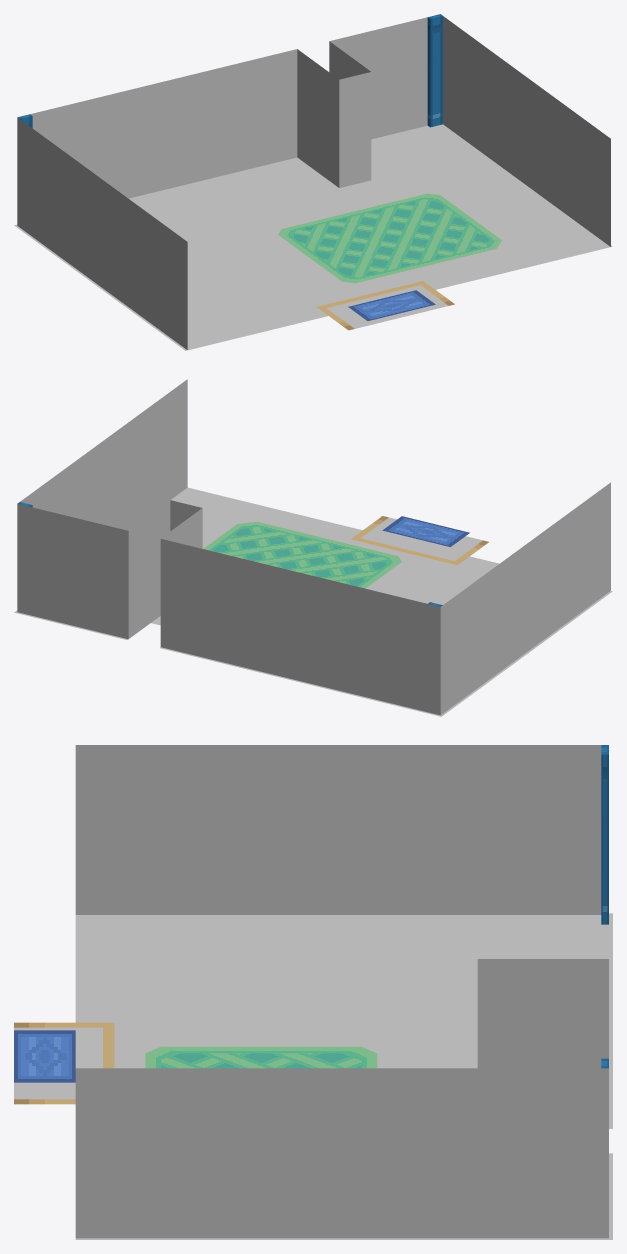
File: House1-downstairs.fbx
The picture shows the model from 3 angles, top to bottom: view 1: azimuth 30°, elevation 25°; view 2: azimuth 150°, elevation 25°; view 3: azimuth 270°, elevation 25°; orthographic projection. The views are drawn at different scales.
Parts seen in each view (by area): view 1: polygon1, polygon2, polygon3, polygon6, polygon4, polygon0, polygon5; view 2: polygon2, polygon3, polygon1, polygon6, polygon0, polygon5; view 3: polygon2, polygon3, polygon1, polygon6, polygon0, polygon4, polygon5.
Boxes of the visible parts, x1,y1,x2,y2 form: polygon1: (14,124,612,350); polygon2: (17,16,610,349); polygon3: (17,34,610,313); polygon6: (278,193,501,283); polygon4: (18,14,442,127); polygon0: (348,290,435,320); polygon5: (317,281,454,330); polygon2: (17,379,610,715); polygon3: (17,397,610,678); polygon1: (14,487,612,716); polygon6: (203,521,401,588); polygon0: (382,516,469,546); polygon5: (351,516,488,565); polygon2: (75,745,608,1238); polygon3: (75,773,608,1180); polygon1: (14,913,612,1239); polygon6: (145,1046,377,1068); polygon0: (14,1030,75,1082); polygon4: (601,745,608,1068); polygon5: (14,1022,114,1104).
Size of the model in its own units: 1.56 by 0.3789 by 1.21.
